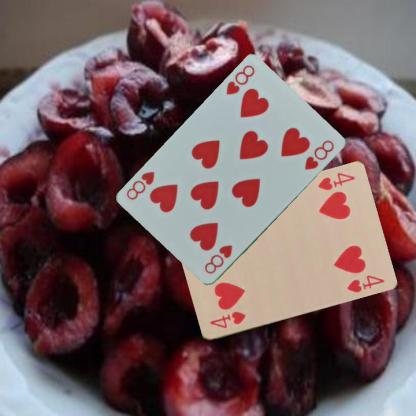4h: (315, 170, 356, 192), (207, 309, 247, 330)
8h: (223, 62, 257, 96), (202, 242, 234, 276)
